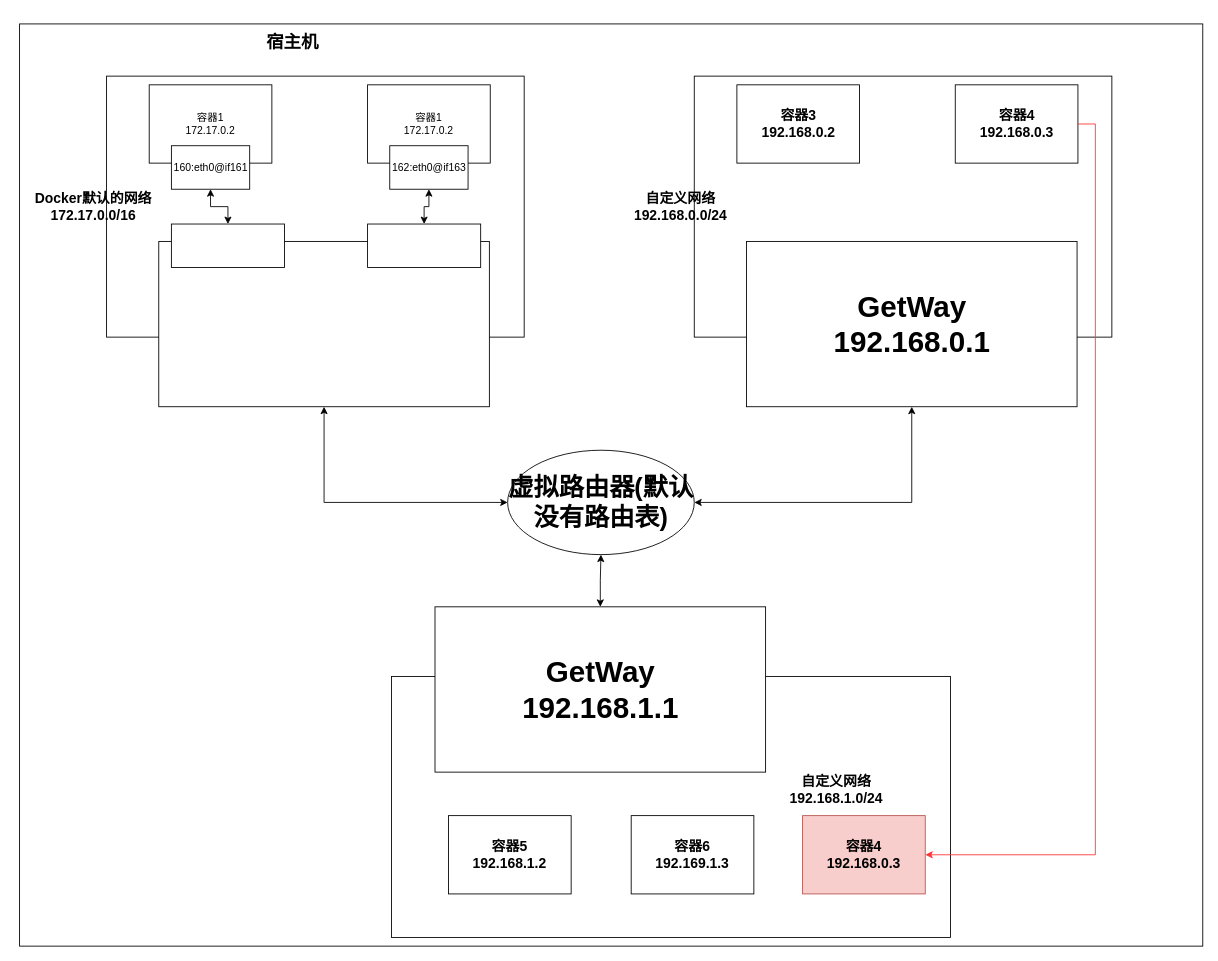
The diagram is 1218 pixels wide and 961 high, and some of its shapes have lost their labels. Here are the shapes that lost their labels. From the top down, the box of each, then its label:
(171, 223, 284, 268): 161:vethecbd6b6@if160
(367, 223, 481, 268): 163:veth42f4253@if162
(158, 241, 489, 407): Docker0 GateWay 172.17.0.1
